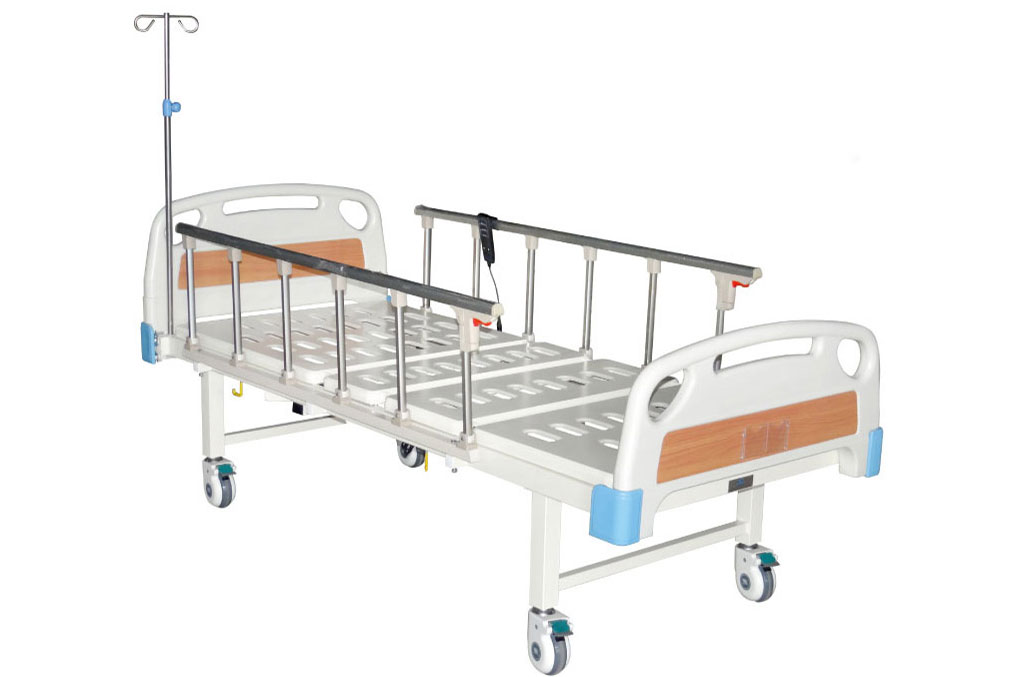trolley_bed: (132, 7, 887, 677)
